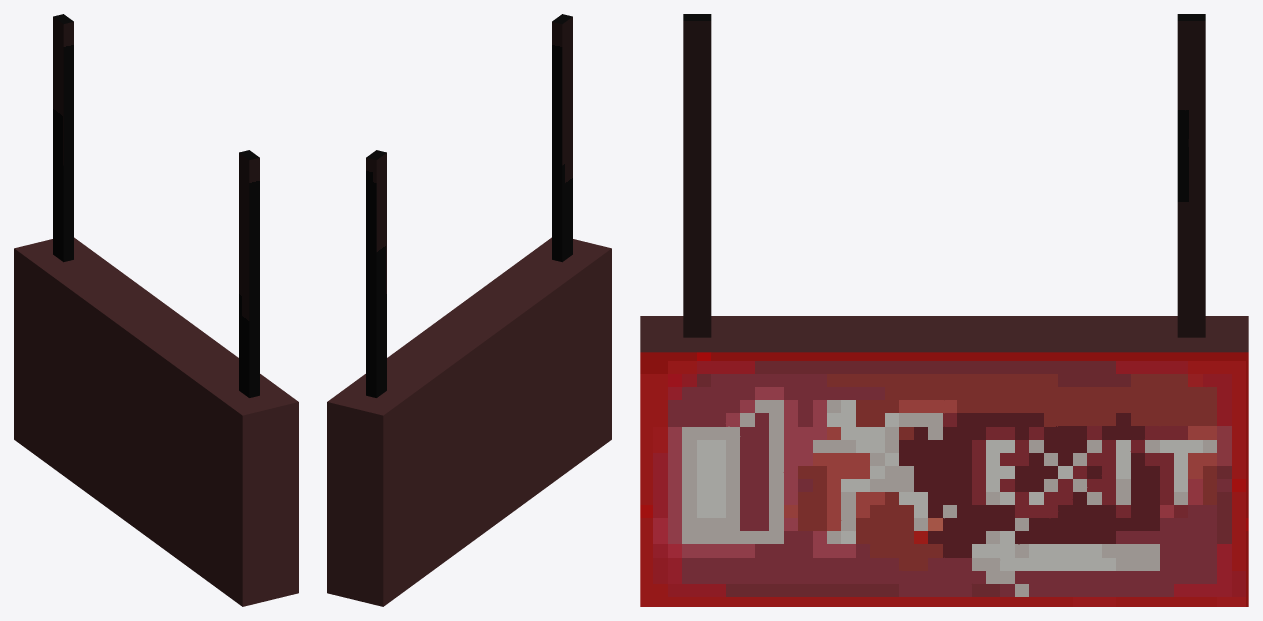
The model's file is Exit_Signs.fbx.
The picture shows the model from 3 angles, left to right: view 1: azimuth 30°, elevation 25°; view 2: azimuth 150°, elevation 25°; view 3: azimuth 270°, elevation 25°; orthographic projection. The views are drawn at different scales.
Visible parts, largest first — view 1: Cube.002; view 2: Cube.002; view 3: Cube.002.
Part boxes in pixels (x1=…): Cube.002: x1=14, y1=14, x2=298, y2=606; Cube.002: x1=327, y1=14, x2=611, y2=606; Cube.002: x1=640, y1=14, x2=1248, y2=606.
Bounding box in the file's own units: 61.67 × 450 × 434.
1 material, 1 textured.
